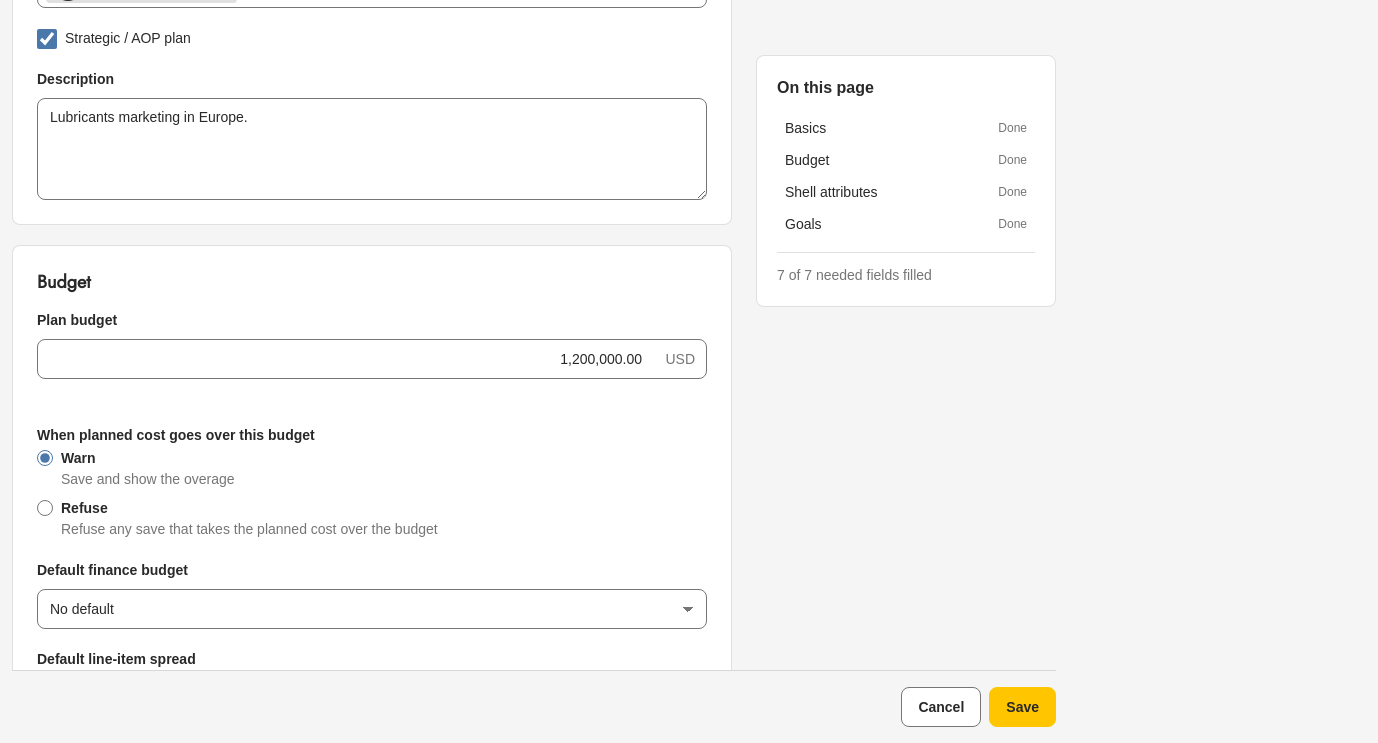
Test: PlanEditPage (US4, FR-018 – FR-023) › saves the whole form with the version it started from
(page scrolled)
Replace the text in the field labelled "Plan budget" with "1,500,000" at (372, 359), box x1=37 y1=339 x2=707 y2=379
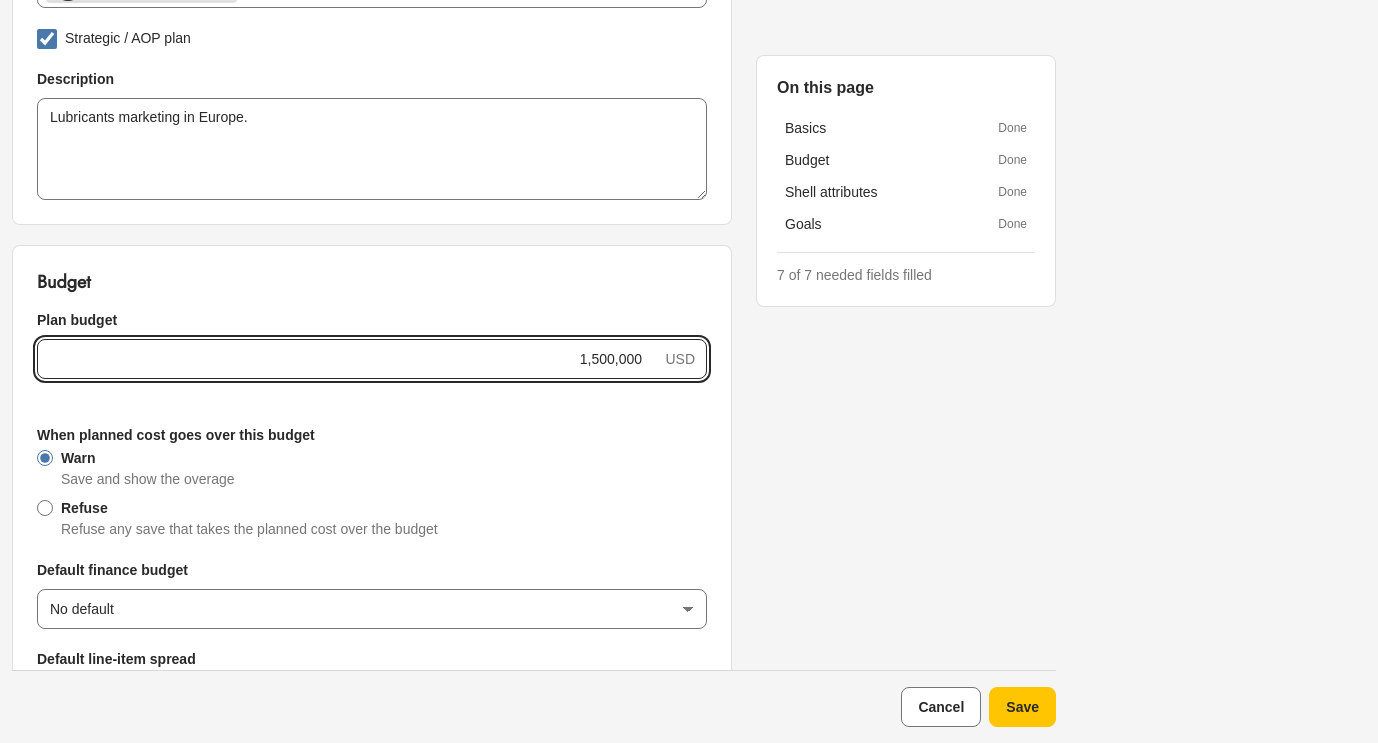
Click the button "Save" at (1023, 707), box x1=989 y1=687 x2=1056 y2=727
(page scrolled)
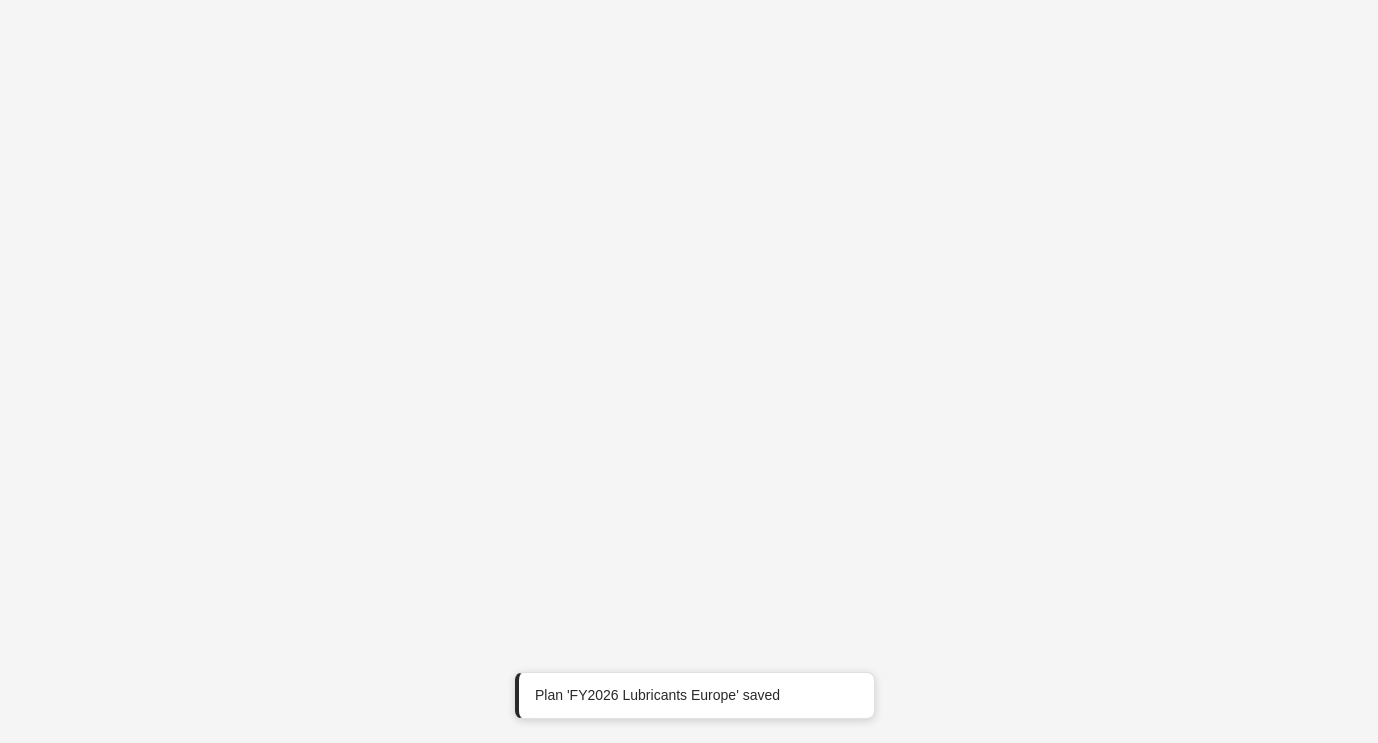
expect the text "Plan 'FY2026 Lubricants Europe' saved" is shown: met, box x1=535 y1=687 x2=780 y2=703
